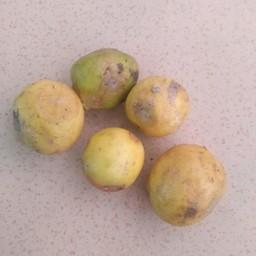Bad_lime: (149, 142, 228, 228), (10, 79, 85, 154), (70, 45, 134, 113), (126, 74, 193, 136), (82, 128, 144, 192)
